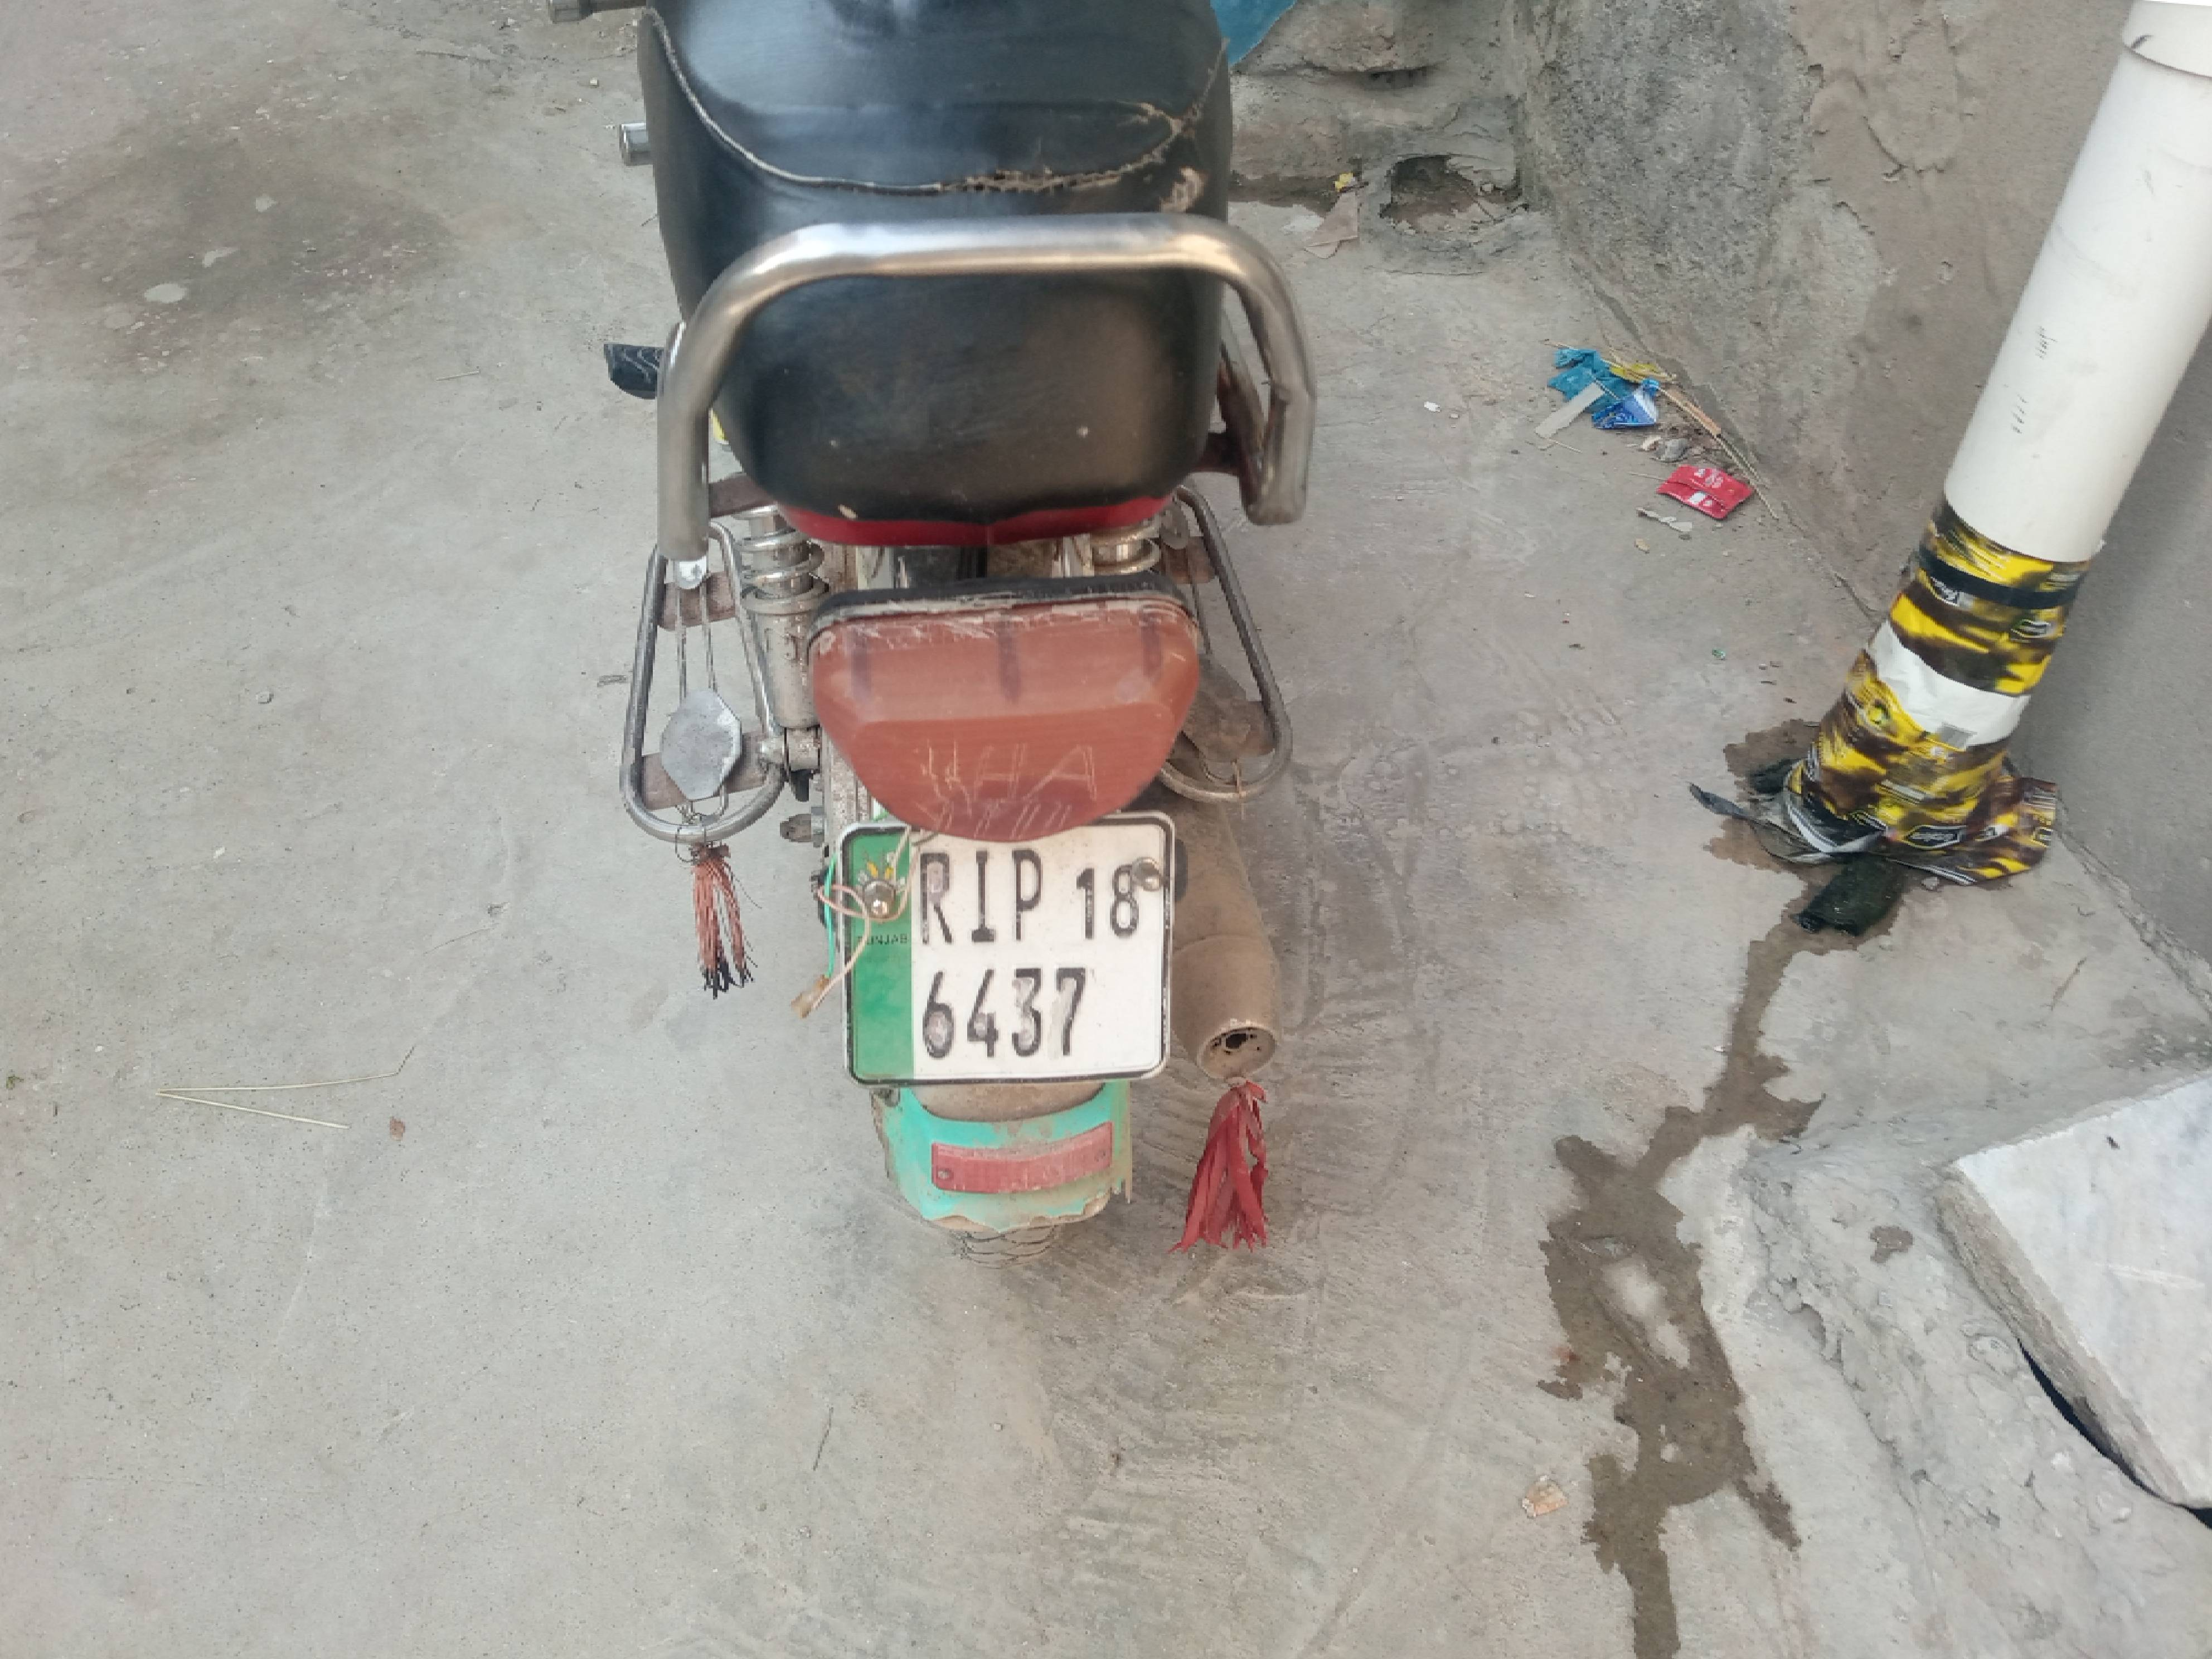number_plate: (839, 824, 1185, 1083)
